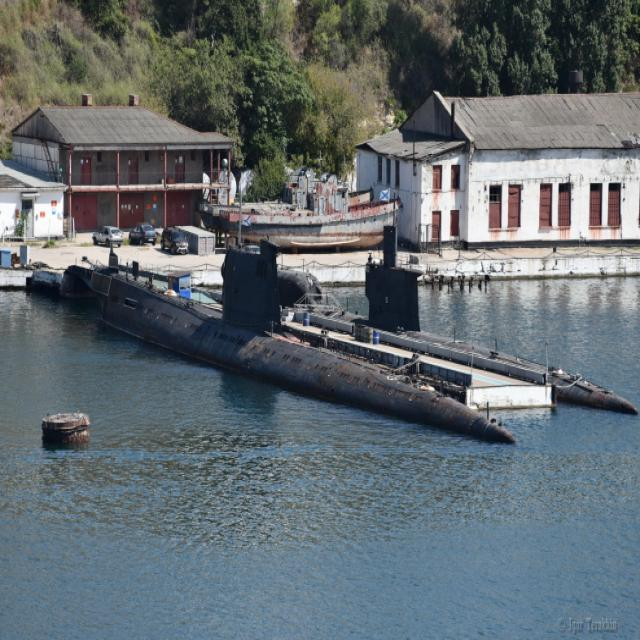submarine: (28, 195, 515, 443), (230, 226, 640, 420)
